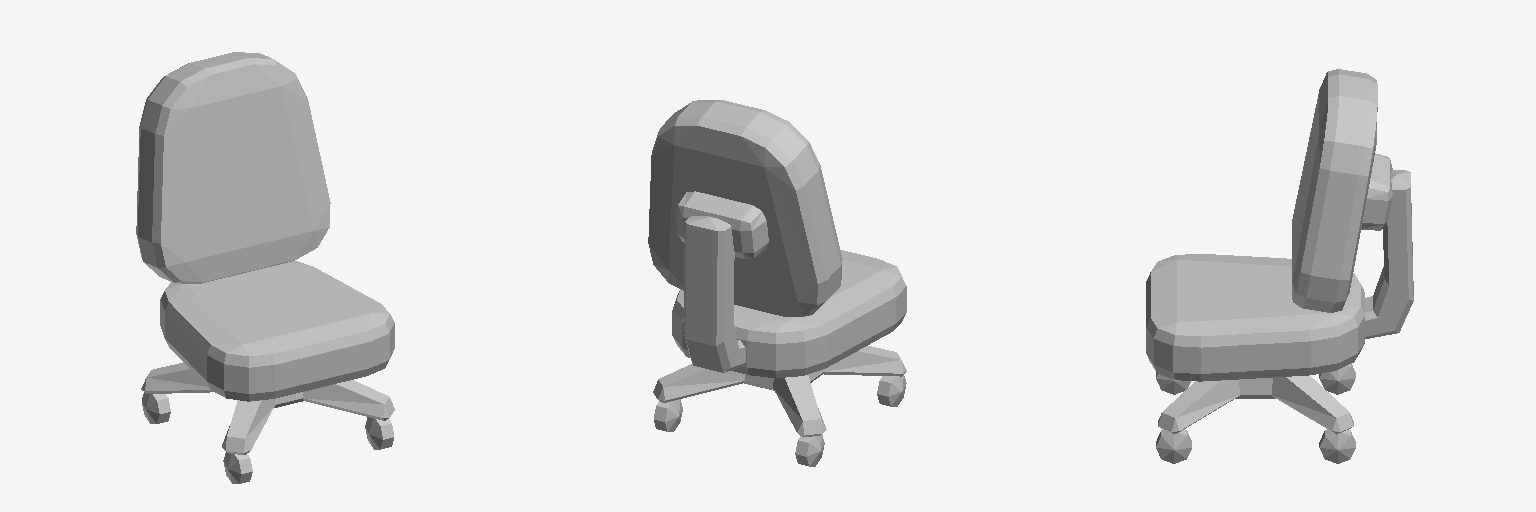
Rendered from chair_desk_A.obj.
3 renders of one model, left to right at view 1: azimuth 30°, elevation 25°; view 2: azimuth 150°, elevation 25°; view 3: azimuth 270°, elevation 25°, orthographic.
Parts seen in each view (by area): view 1: chair_desk_A_Cylinder.625; view 2: chair_desk_A_Cylinder.625; view 3: chair_desk_A_Cylinder.625.
Boxes of the visible parts, box(x1,y1,x2,y2) form: chair_desk_A_Cylinder.625: box(136, 52, 394, 483); chair_desk_A_Cylinder.625: box(648, 100, 906, 466); chair_desk_A_Cylinder.625: box(1146, 69, 1413, 463).
Bounding box in the file's own units: 0.7004 × 1.29 × 0.915.